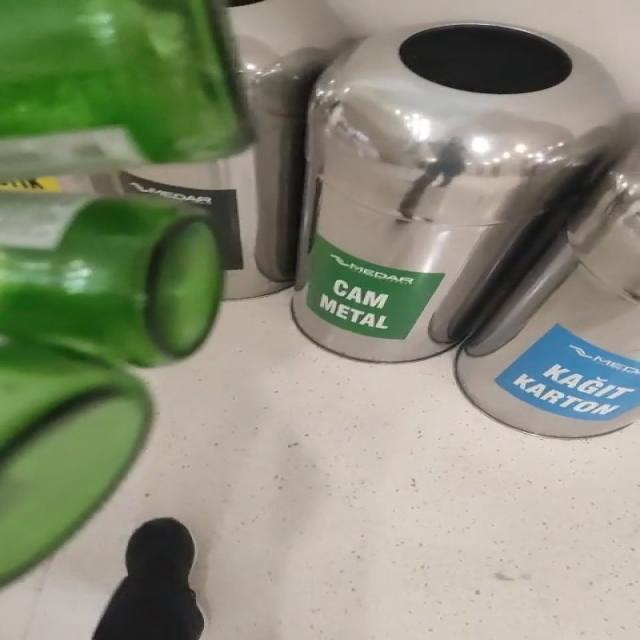Glass: (1, 193, 223, 582), (1, 0, 252, 180)
